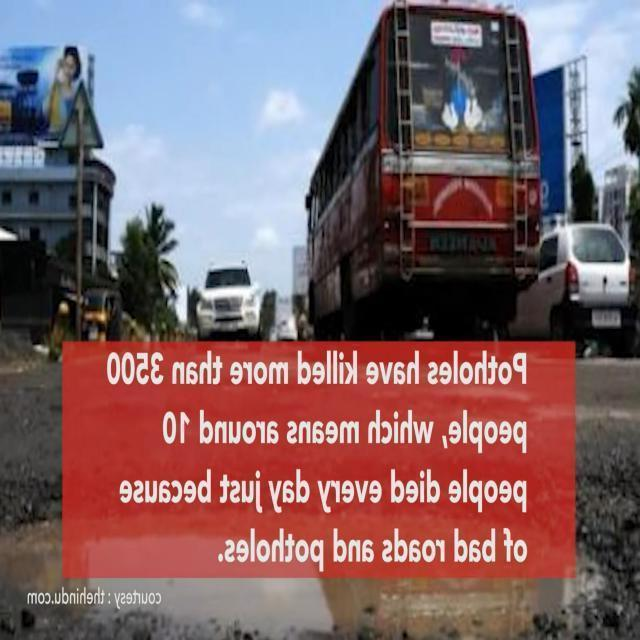pothole: (0, 521, 579, 640), (578, 545, 589, 599)
